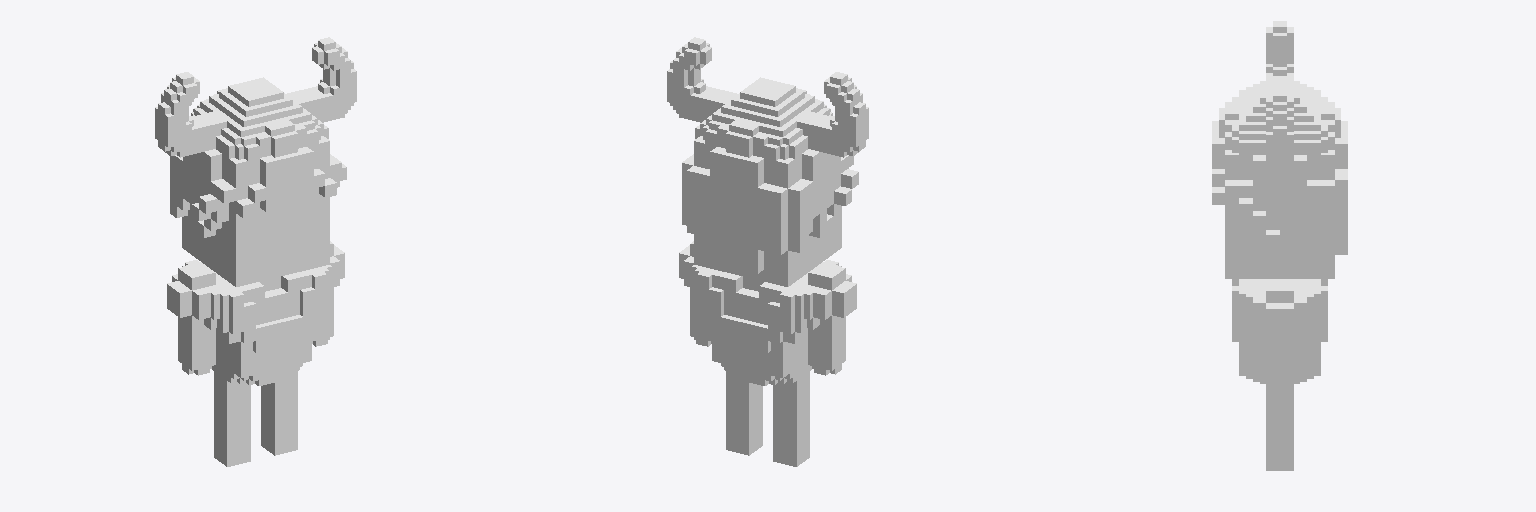
The model's file is voxelDude.obj.
3 renders of one model, left to right at view 1: azimuth 30°, elevation 25°; view 2: azimuth 150°, elevation 25°; view 3: azimuth 270°, elevation 25°, orthographic.
Parts seen in each view (by area): view 1: object 1; view 2: object 1; view 3: object 1.
Part boxes in pixels (bbox=[...]): object 1: bbox=[155, 37, 356, 466]; object 1: bbox=[667, 37, 868, 466]; object 1: bbox=[1212, 21, 1347, 470].
Bounding box in the file's own units: 3.2 × 6.4 × 2.